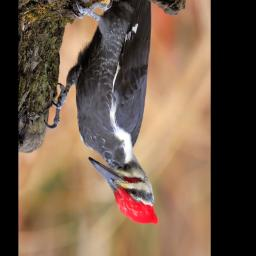Woodpecker: (43, 0, 158, 226)
